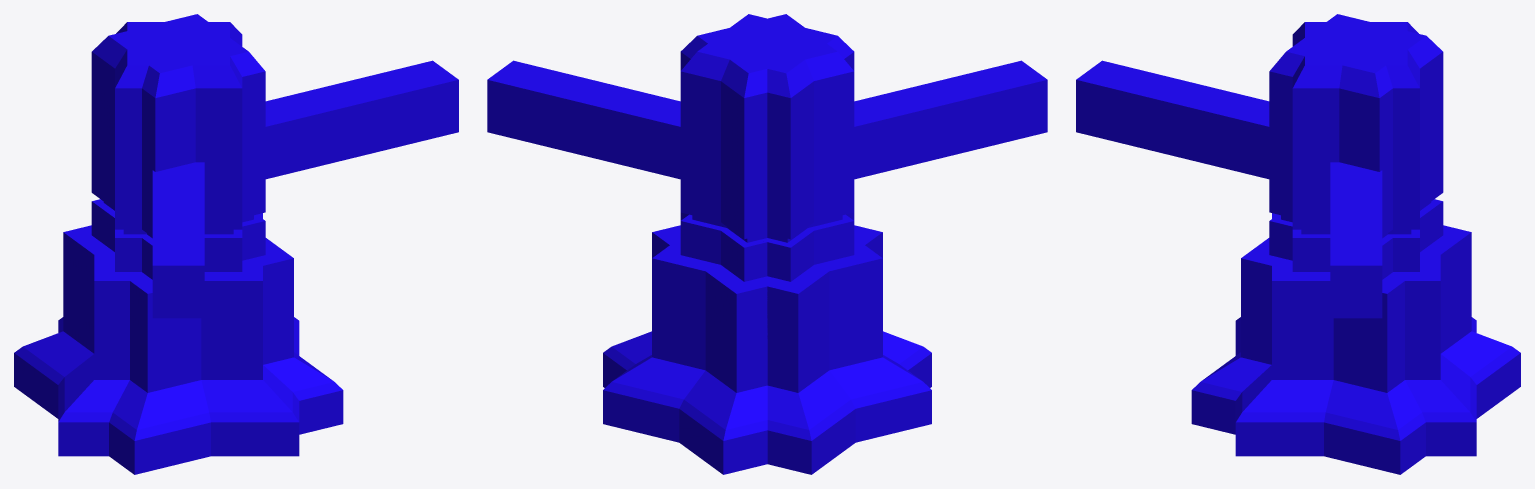
Rendered from c_fence.glb.
3 views of the same model, side by side, from view 1: azimuth 30°, elevation 25°; view 2: azimuth 150°, elevation 25°; view 3: azimuth 270°, elevation 25° (orthographic).
Visible parts, largest first — view 1: Fence_End_Modular.006; view 2: Fence_End_Modular.006; view 3: Fence_End_Modular.006.
Boxes of the visible parts, <box> form: Fence_End_Modular.006: <box>14,14,458,474</box>; Fence_End_Modular.006: <box>487,14,1047,474</box>; Fence_End_Modular.006: <box>1076,14,1520,474</box>.
Size of the model in its own units: 1.57 by 1.29 by 1.44.
